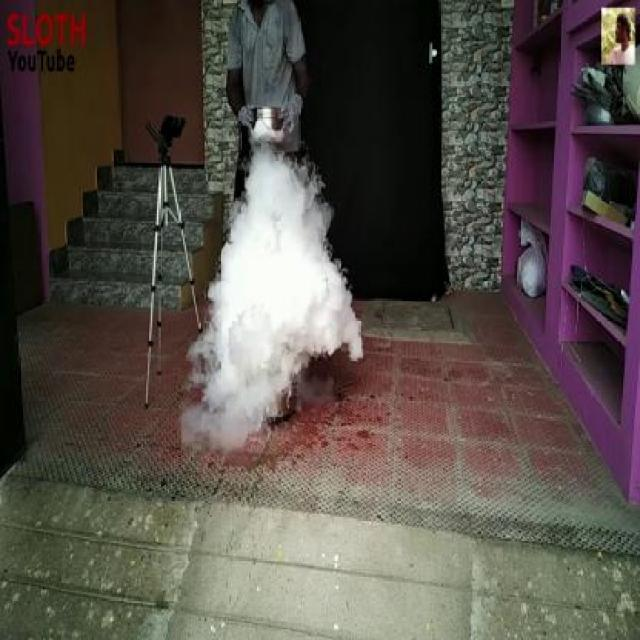smoke: (200, 183, 358, 402)
